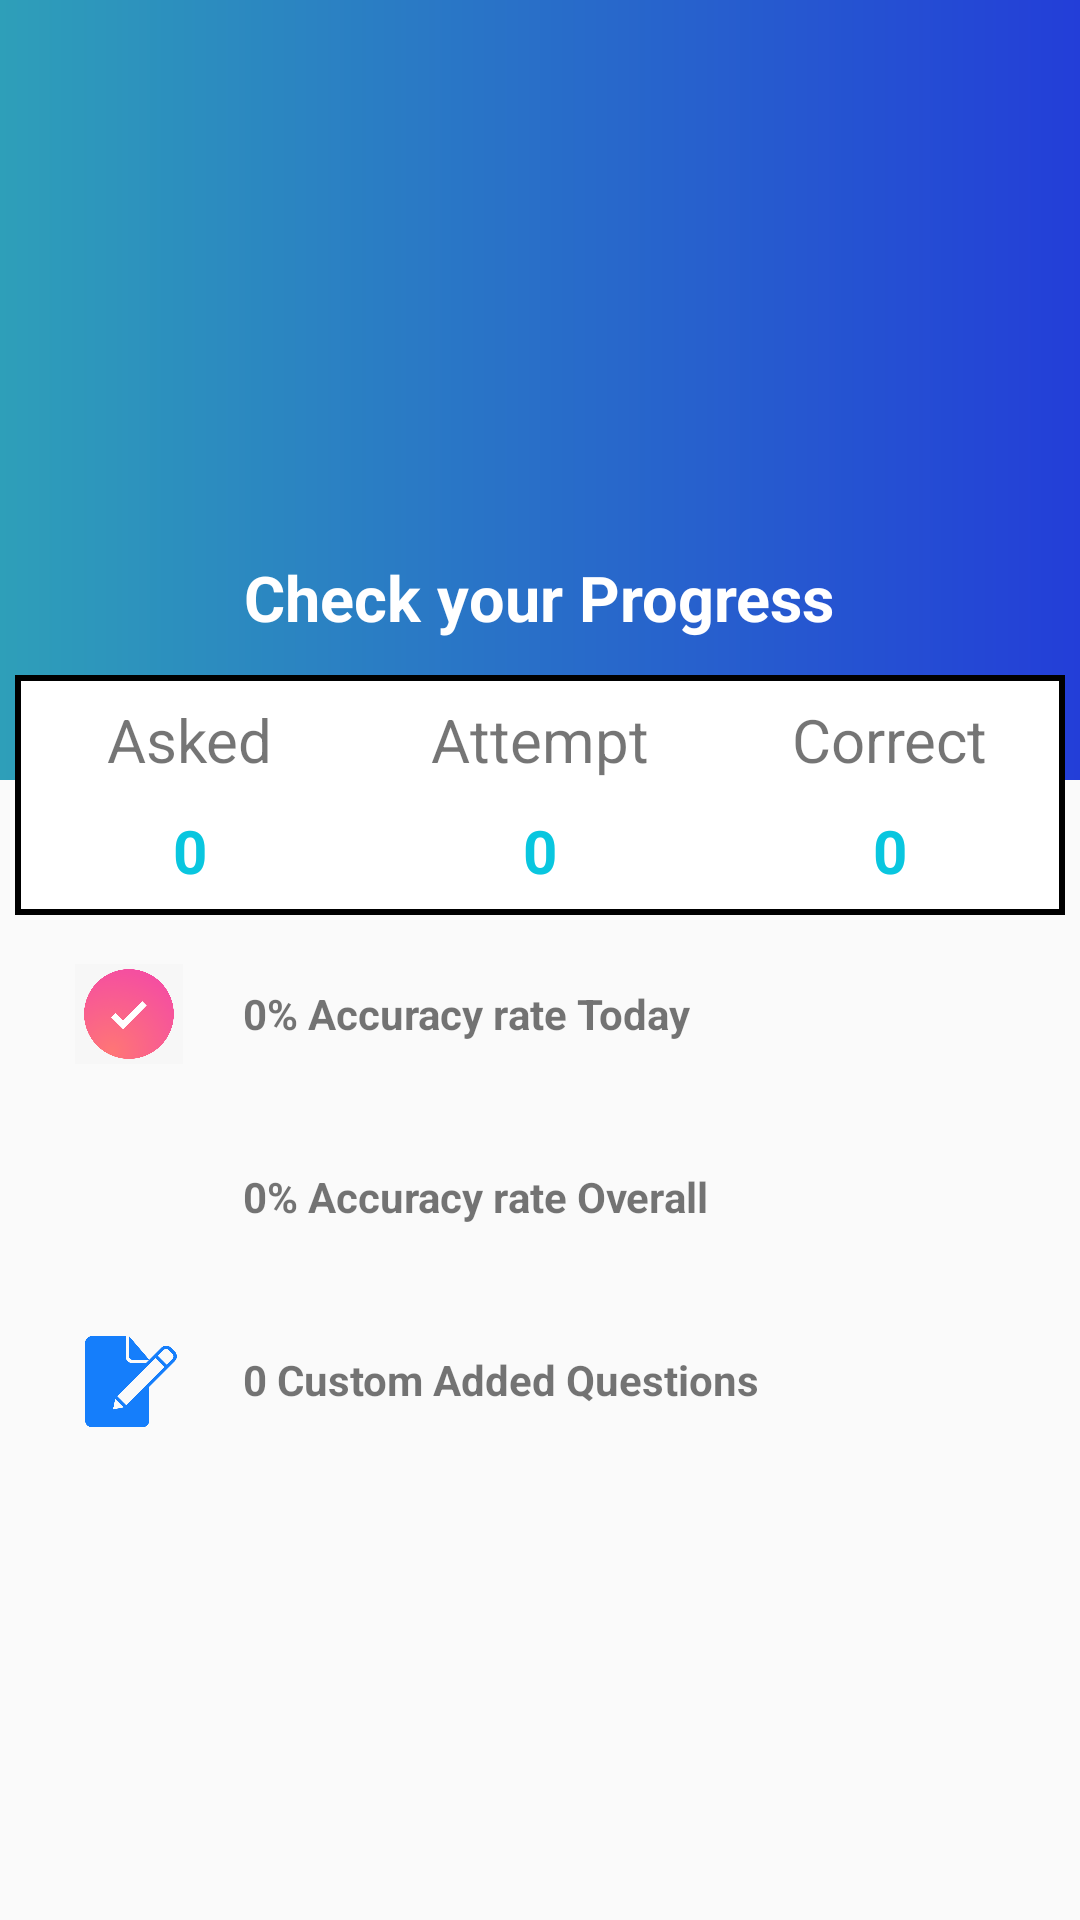

Icon bounding boxes for this 1080px×1920px phone screenshot, format {"x1": x1, "y1": y1, "x2": x2, "y2": y2}:
correct: {"x1": 84, "y1": 969, "x2": 174, "y2": 1059}
editname: {"x1": 85, "y1": 1336, "x2": 177, "y2": 1427}
